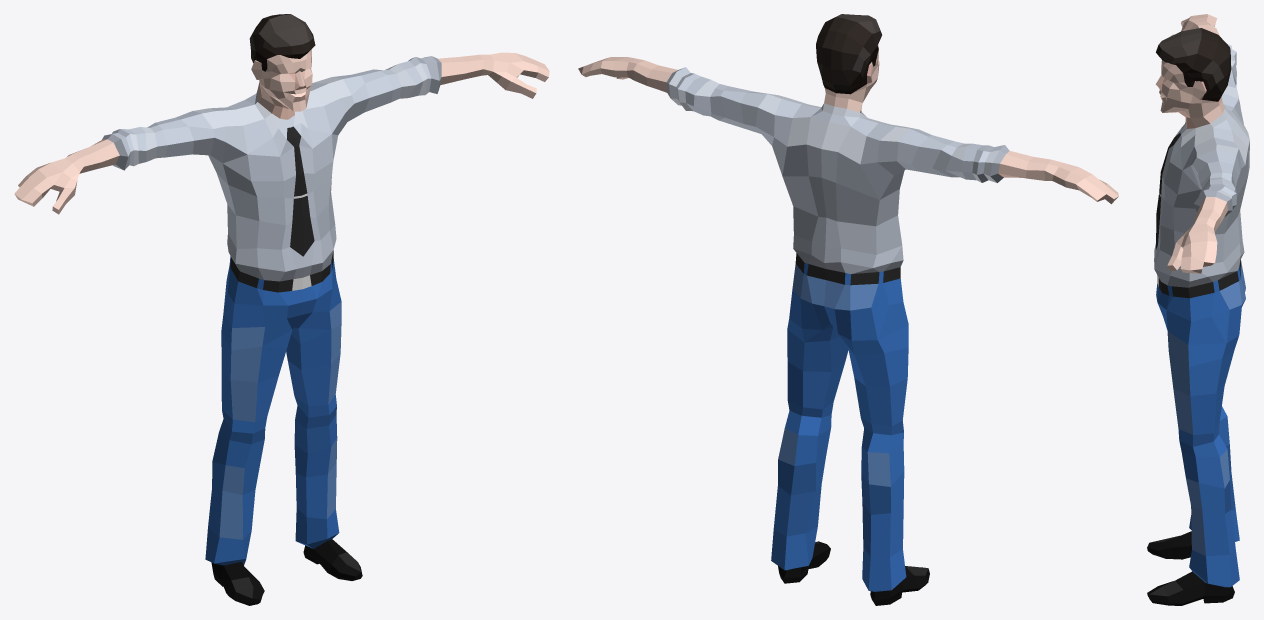
Rendered from office_Male_A-model.fbx.
3 renders of one model, left to right at view 1: azimuth 30°, elevation 25°; view 2: azimuth 150°, elevation 25°; view 3: azimuth 270°, elevation 25°, orthographic. The views are drawn at different scales.
Visible parts, largest first — view 1: office_Male_A; view 2: office_Male_A; view 3: office_Male_A.
Part boxes in pixels (box(x1,y1,x2,y2)): office_Male_A: box(14, 14, 549, 605); office_Male_A: box(578, 14, 1118, 605); office_Male_A: box(1147, 14, 1249, 605).
Bounding box in the file's own units: 168 × 169 × 28.97.
Materials: 1 (1 with a texture image).
